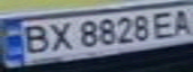2: (115, 14, 136, 45)
8: (75, 17, 100, 48), (130, 11, 154, 43), (97, 16, 118, 47)
A: (169, 6, 193, 37)
B: (15, 21, 54, 55)
E: (148, 8, 181, 39)
X: (42, 19, 75, 53)
